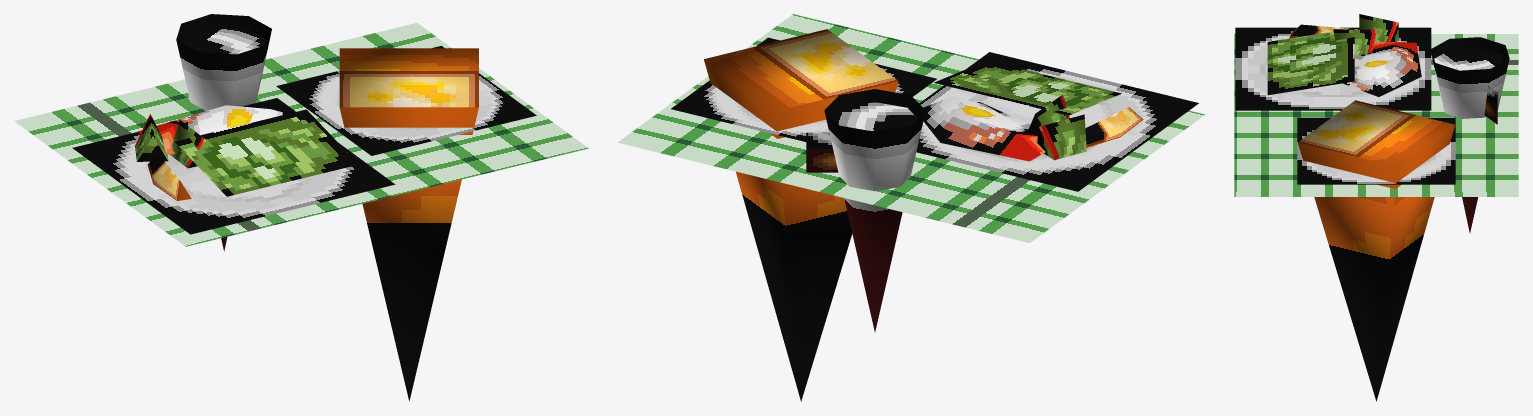
3 renders of one model, left to right at view 1: azimuth 30°, elevation 25°; view 2: azimuth 150°, elevation 25°; view 3: azimuth 270°, elevation 25°, orthographic. The views are drawn at different scales.
Visible parts, largest first — view 1: 3390imig18_12; view 2: 3390imig18_12; view 3: 3390imig18_12.
Boxes of the visible parts, x1,y1,x2,y2 form: 3390imig18_12: (14, 14, 588, 400); 3390imig18_12: (618, 14, 1204, 401); 3390imig18_12: (1234, 14, 1518, 401).
Size of the model in its own units: 0.8604 by 0.7297 by 0.6353.
Materials: 4 (4 with a texture image).
